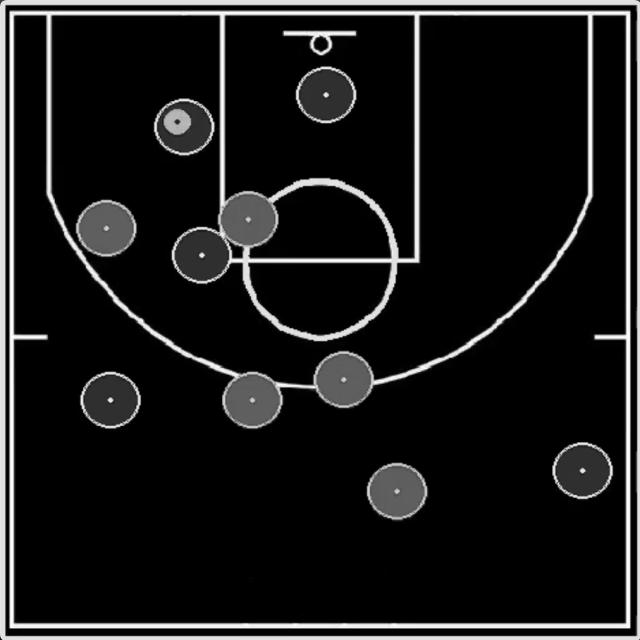Basketball: (162, 109, 192, 136)
Team_A: (296, 66, 356, 124), (80, 372, 141, 429), (172, 227, 232, 284), (553, 442, 613, 499), (154, 99, 214, 155)
Team_B: (223, 371, 284, 429), (314, 351, 374, 409), (368, 462, 428, 520), (218, 191, 278, 248), (76, 200, 137, 256)
